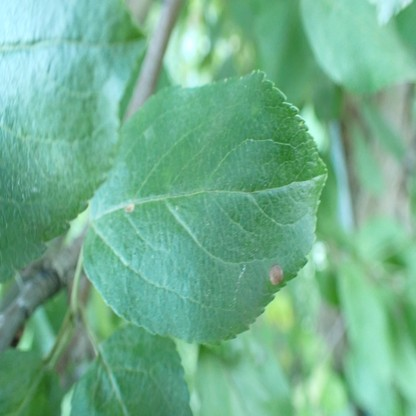frogeye_leaf_spot: (270, 265, 283, 286), (124, 203, 135, 213)
